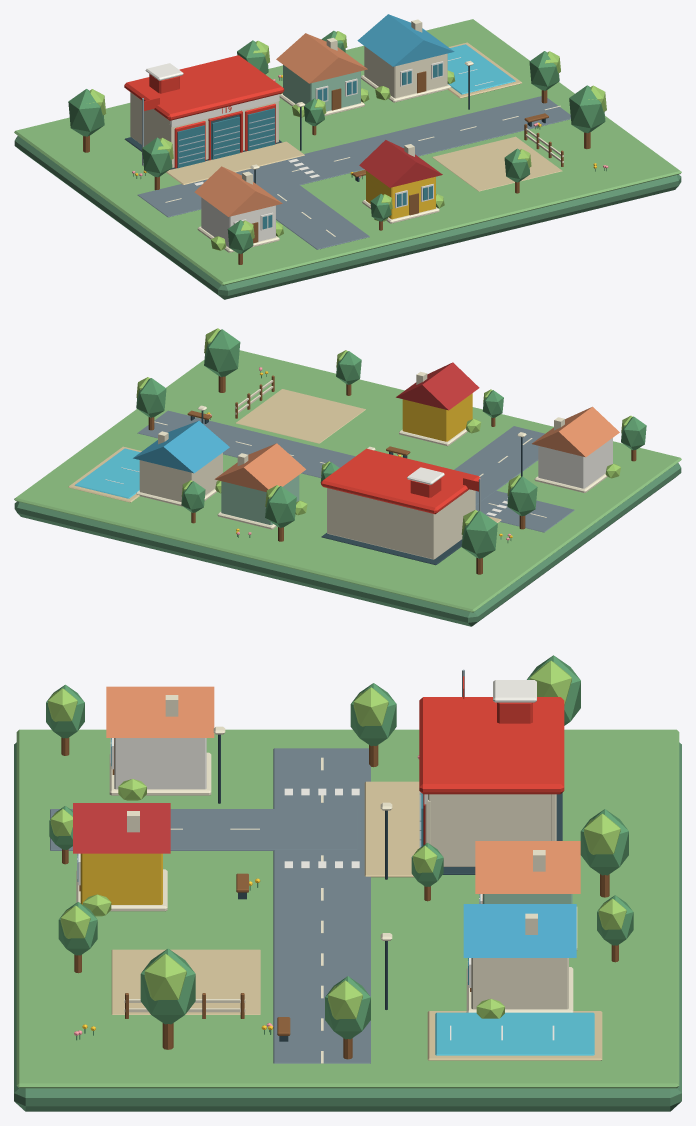
File: village.glb
3 views of the same model, one above another, from view 1: azimuth 30°, elevation 25°; view 2: azimuth 150°, elevation 25°; view 3: azimuth 270°, elevation 25° (orthographic). The views are drawn at different scales.
Visible parts, largest first — view 1: Village, Station, GarageDoor; view 2: Village, Station; view 3: Village, Station.
Boxes of the visible parts, <box> form: Village: <box>14,14,681,299</box>; Station: <box>124,55,284,169</box>; GarageDoor: <box>212,116,239,159</box>; Village: <box>14,328,681,626</box>; Station: <box>321,448,480,565</box>; Village: <box>14,655,681,1111</box>; Station: <box>419,669,564,874</box>.
Size of the model in its own units: 33 by 6.35 by 26.
